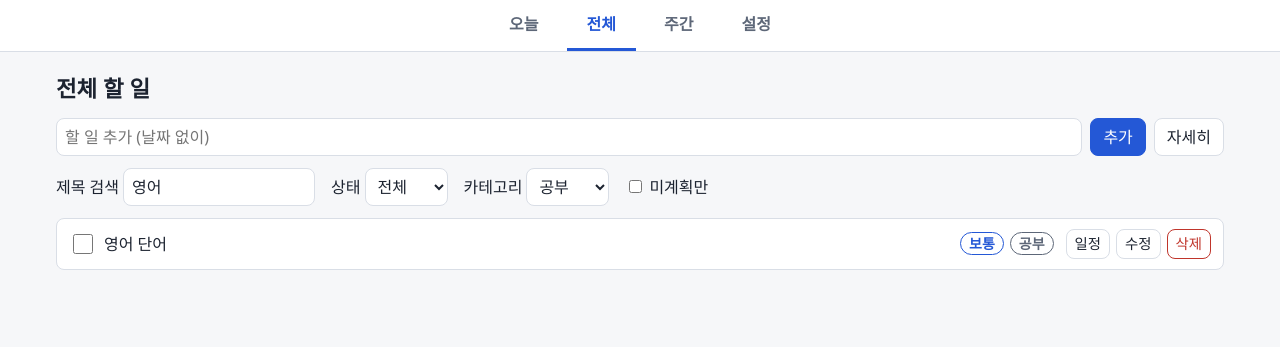
Test case: 전체 화면 (AC10, AC29) › URL의 필터가 적용되고, 결과가 없으면 "검색 결과 없음"과 필터 초기화
Expected: the number of list items is 1, [56,218,1224,270]
Expected: the text "영어 단어" is shown, [104,232,167,256]
Select "완료" in the dropdown labelled "상태": [406, 187] box [364,168,448,206]
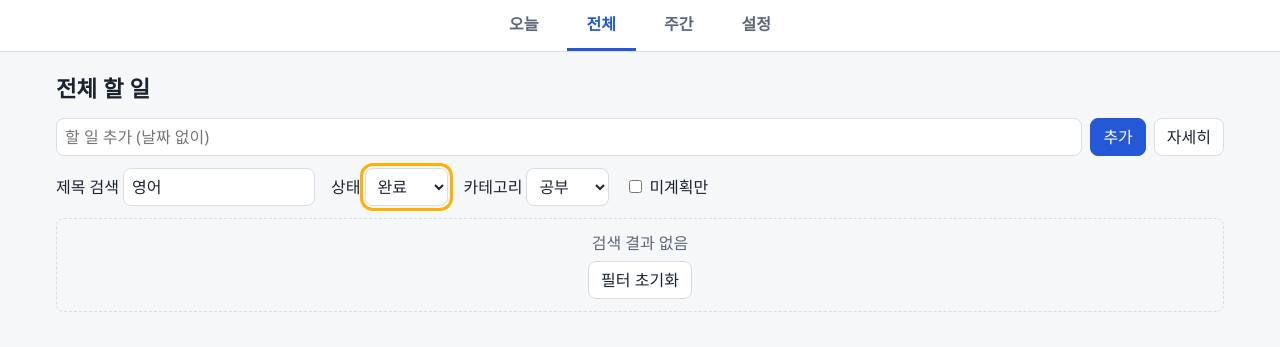
Expected: the text "검색 결과 없음" is shown, [592,232,688,254]
Click the button "필터 초기화": [640, 280] box [588,261,692,299]
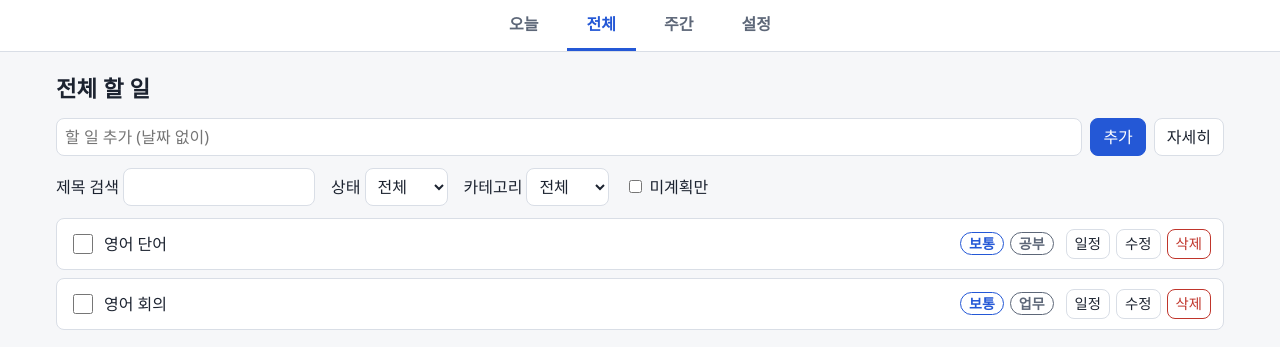
Expected: the number of list items is 2, [56,218,1224,270]; [56,278,1224,330]
